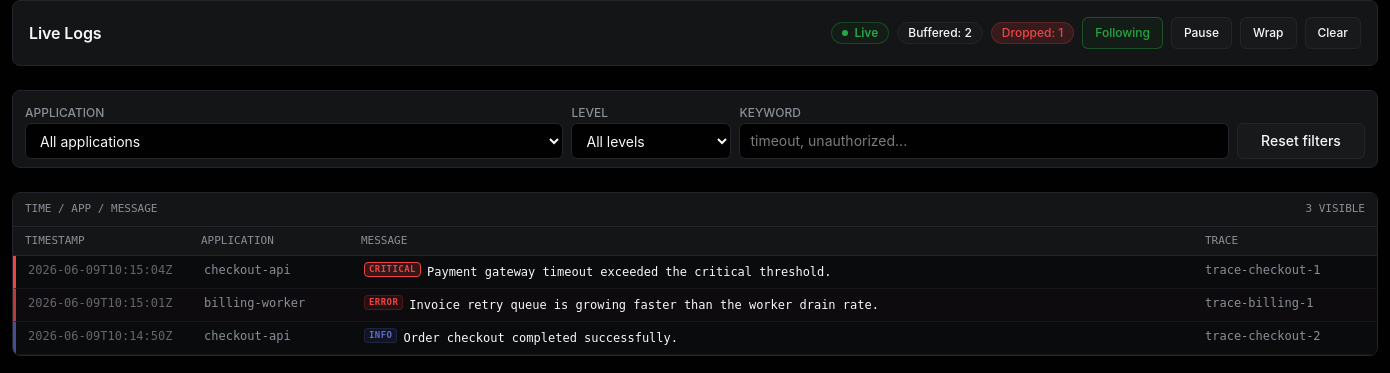
Scenario: LiveLogsPage › pauses, resumes, and clears visible rows
Check: the text "Payment gateway timeout exceeded the critical threshold." is shown, box left=427, top=262, right=832, bottom=282
Click the button "Pause": (1202, 33) left=1171, top=17, right=1232, bottom=49
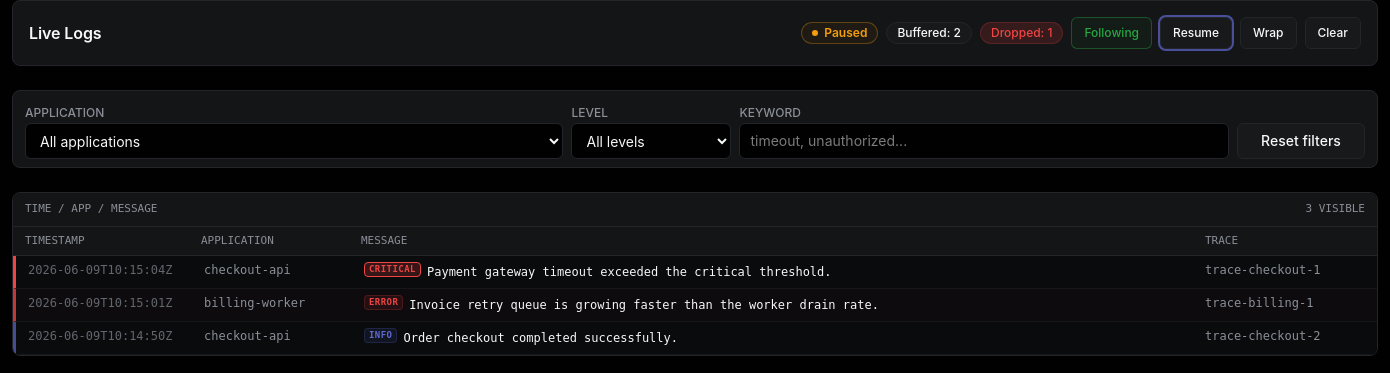
Check: the text "Payment gateway timeout exceeded the critical threshold." is shown, box left=427, top=262, right=832, bottom=282
Check: the text "Paused" is shown, box left=801, top=22, right=878, bottom=44
Click the button "Resume": (1196, 33) left=1160, top=17, right=1232, bottom=49
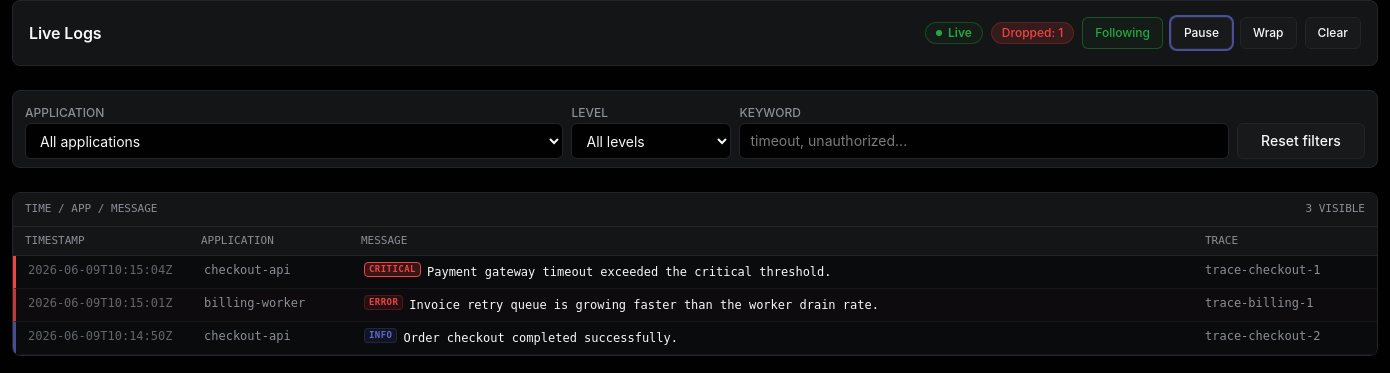
Check: the text "Live" is shown, box left=925, top=22, right=983, bottom=44
Click the button "Clear": (1333, 33) left=1304, top=17, right=1361, bottom=49
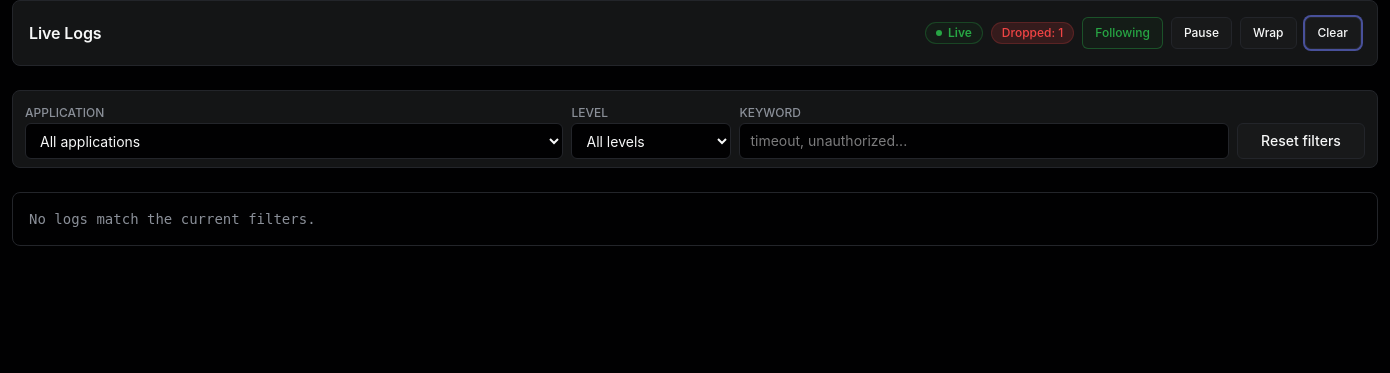
Check: the text "No logs match the current filters." is shown, box left=12, top=192, right=1378, bottom=246
